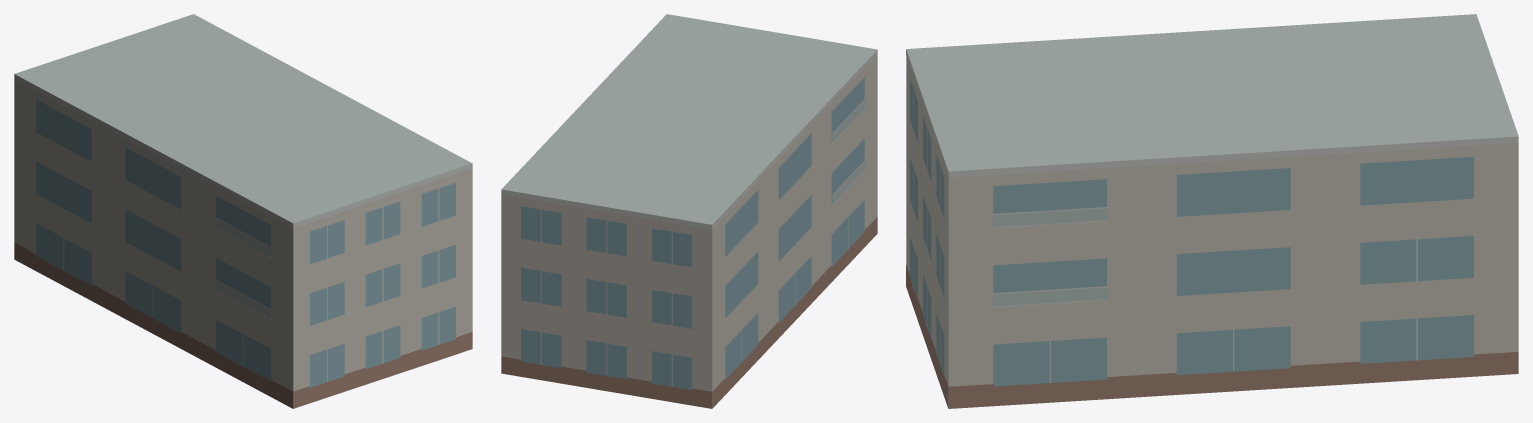
The model's file is survey-upis-32808527.glb.
The picture shows the model from 3 angles, left to right: view 1: azimuth 30°, elevation 25°; view 2: azimuth 150°, elevation 25°; view 3: azimuth 270°, elevation 25°; orthographic projection. The views are drawn at different scales.
Parts seen in each view (by area): view 1: survey-upis-32808527.tmp; view 2: survey-upis-32808527.tmp; view 3: survey-upis-32808527.tmp.
Part boxes in pixels (left/top/right/bottom): survey-upis-32808527.tmp: left=14, top=14, right=472, bottom=408; survey-upis-32808527.tmp: left=501, top=14, right=877, bottom=408; survey-upis-32808527.tmp: left=906, top=14, right=1518, bottom=408.
Size of the model in its own units: 13.02 by 9.15 by 21.41.
